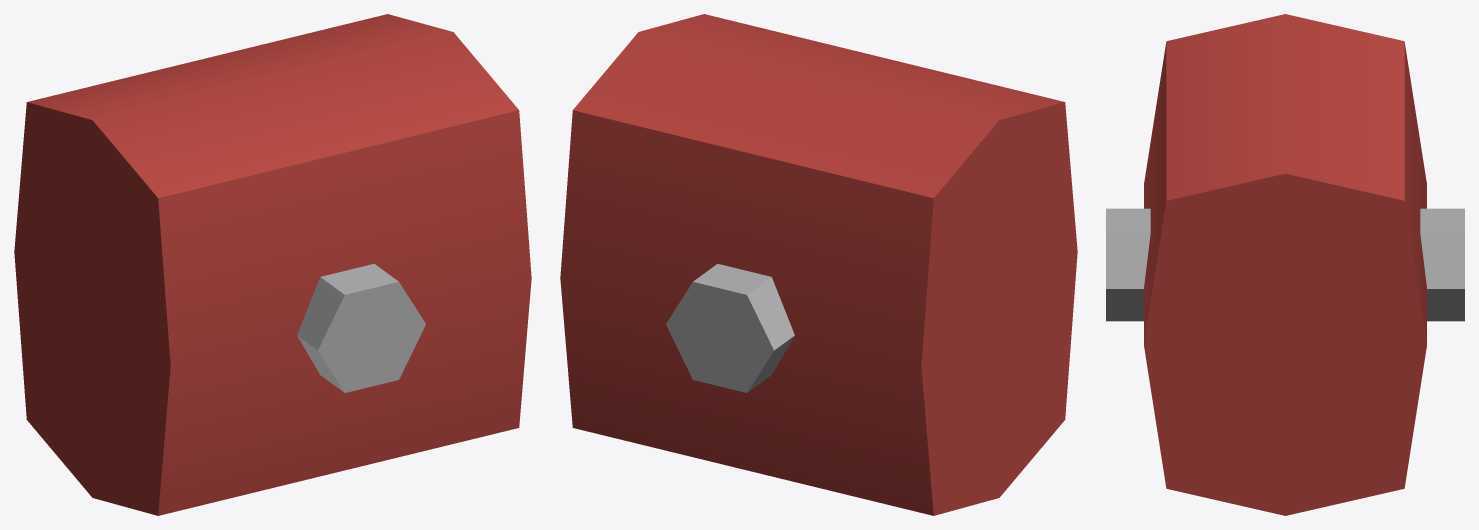
Rendered from pivot_lod1.glb.
The picture shows the model from 3 angles, left to right: view 1: azimuth 30°, elevation 25°; view 2: azimuth 150°, elevation 25°; view 3: azimuth 270°, elevation 25°; orthographic projection. The views are drawn at different scales.
Visible parts, largest first — view 1: pivot_lod1; view 2: pivot_lod1; view 3: pivot_lod1.
Boxes of the visible parts, x1=… form: pivot_lod1: x1=14, y1=14, x2=531, y2=515; pivot_lod1: x1=560, y1=14, x2=1077, y2=515; pivot_lod1: x1=1106, y1=14, x2=1464, y2=515.
Size of the model in its own units: 0.04 by 0.04 by 0.038.
